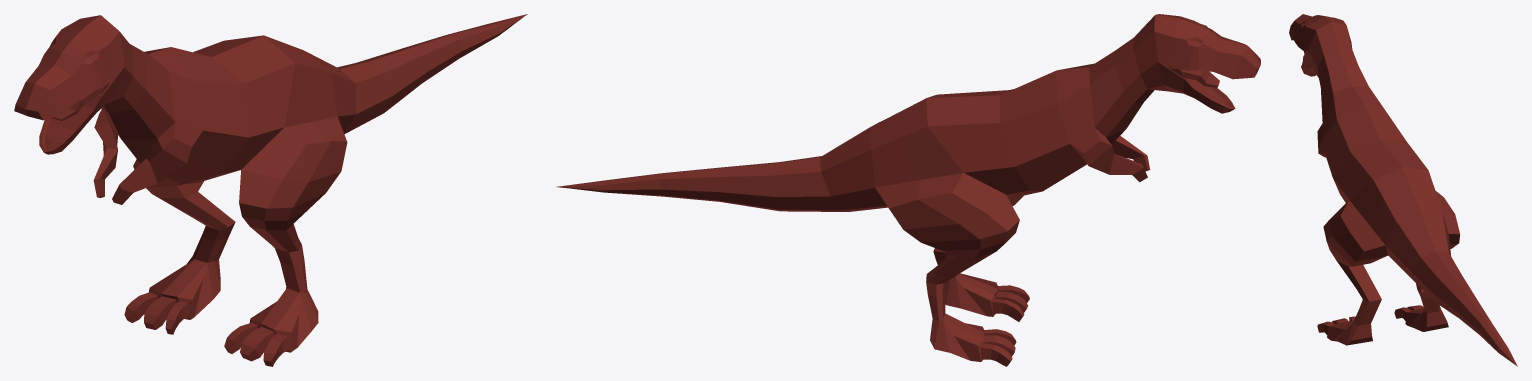
File: Dinosaur.glb
The picture shows the model from 3 angles, left to right: view 1: azimuth 30°, elevation 25°; view 2: azimuth 150°, elevation 25°; view 3: azimuth 270°, elevation 25°; orthographic projection. The views are drawn at different scales.
Parts seen in each view (by area): view 1: Dino; view 2: Dino; view 3: Dino.
Boxes of the visible parts, x1,y1,x2,y2 form: Dino: (14, 14, 527, 366); Dino: (556, 14, 1260, 366); Dino: (1289, 14, 1517, 366).
Size of the model in its own units: 5.48 by 3.01 by 2.42.
